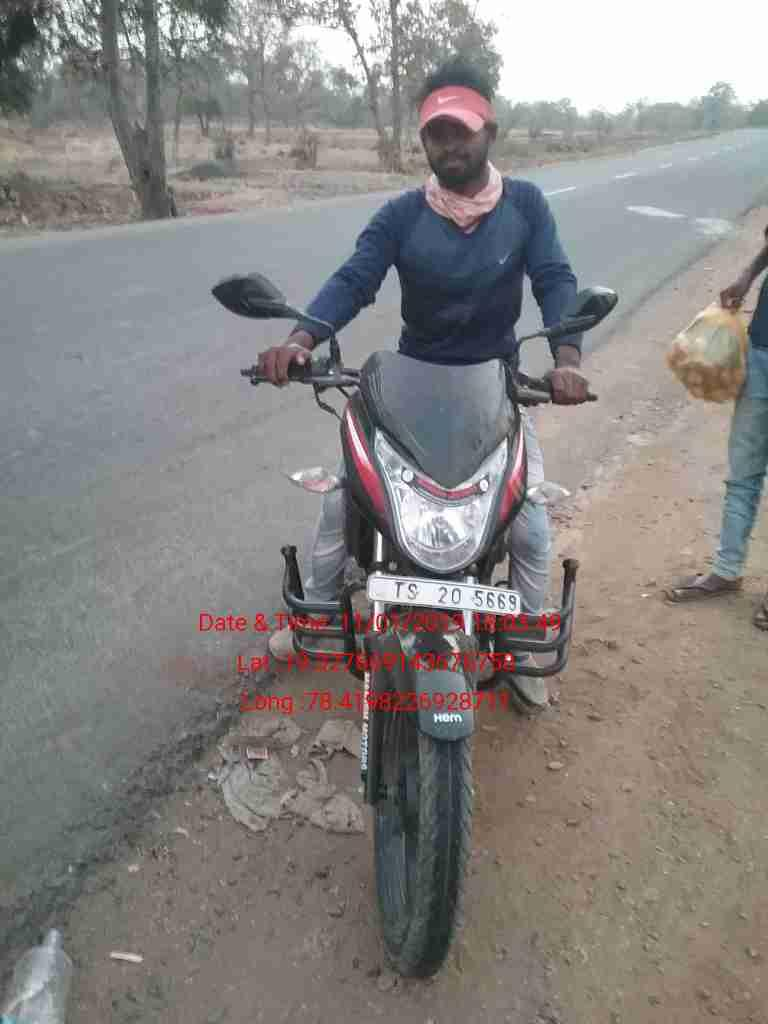plate: (361, 563, 533, 619)
